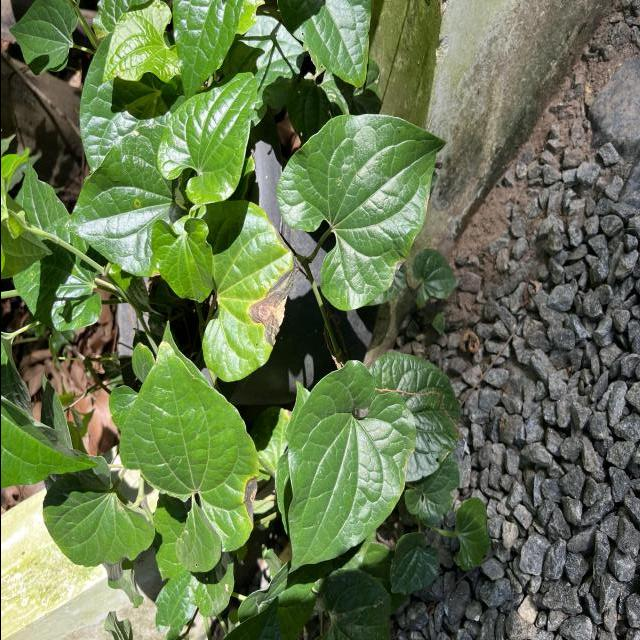Piper longum: (274, 111, 448, 312), (283, 358, 418, 578), (154, 68, 258, 208), (39, 452, 157, 568), (148, 216, 216, 304)
